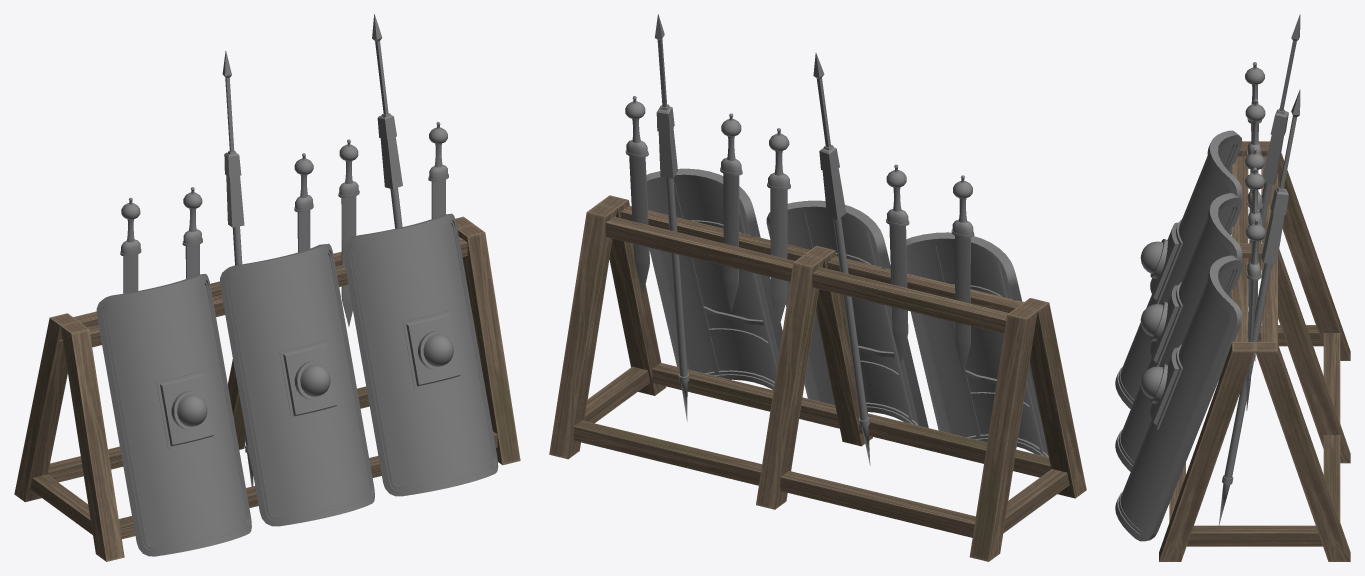
File: SM_weaponstand_preset_01.fbx
3 renders of one model, left to right at view 1: azimuth 30°, elevation 25°; view 2: azimuth 150°, elevation 25°; view 3: azimuth 270°, elevation 25°, orthographic. The views are drawn at different scales.
Visible parts, largest first — view 1: Object32628; view 2: Object32628; view 3: Object32628.
Part boxes in pixels (left/top/right/bottom): Object32628: left=14, top=14, right=520, bottom=561; Object32628: left=549, top=14, right=1086, bottom=561; Object32628: left=1115, top=14, right=1350, bottom=561.
Size of the model in its own units: 103 by 99.34 by 49.01.
